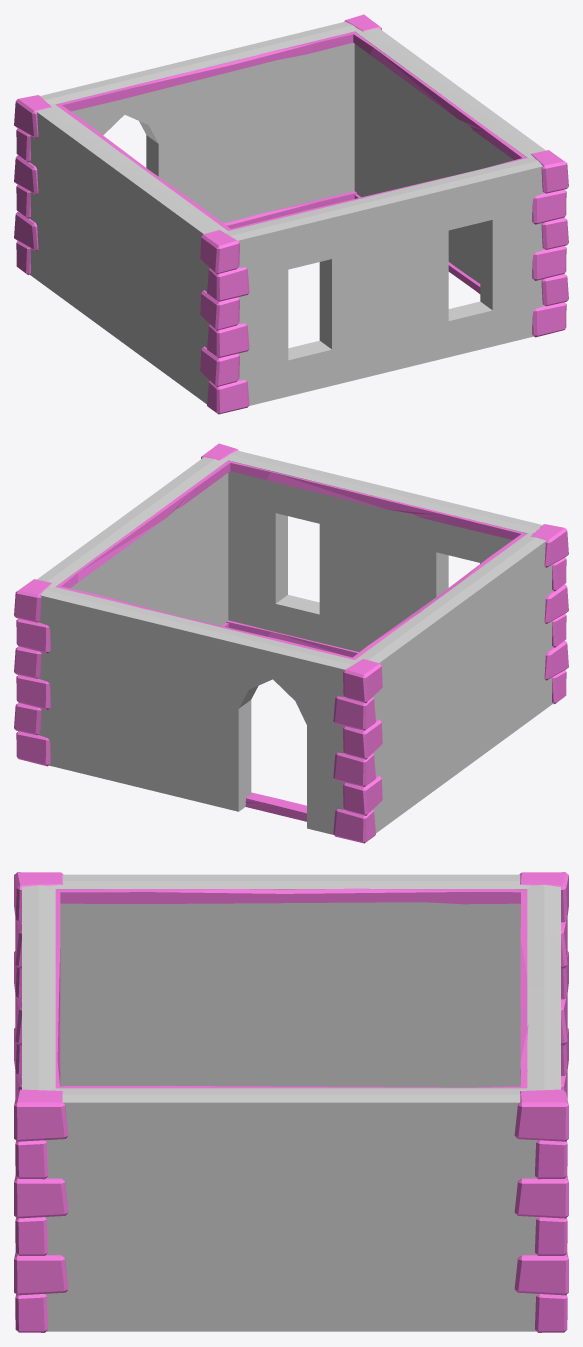
Rendered from SM_Tower_Square_6m_Entrance_Corner_Fantasy_Base.fbx.
3 renders of one model, top to bottom at view 1: azimuth 30°, elevation 25°; view 2: azimuth 150°, elevation 25°; view 3: azimuth 270°, elevation 25°, orthographic. The views are drawn at different scales.
Parts seen in each view (by area): view 1: SM_Tower_Square_6m_Entrance_Corner_Fantasy_Base; view 2: SM_Tower_Square_6m_Entrance_Corner_Fantasy_Base; view 3: SM_Tower_Square_6m_Entrance_Corner_Fantasy_Base.
Part boxes in pixels (x1=…): SM_Tower_Square_6m_Entrance_Corner_Fantasy_Base: x1=14, y1=14, x2=568, y2=414; SM_Tower_Square_6m_Entrance_Corner_Fantasy_Base: x1=14, y1=443, x2=568, y2=843; SM_Tower_Square_6m_Entrance_Corner_Fantasy_Base: x1=14, y1=872, x2=568, y2=1332.
Size of the model in its own units: 6.61 by 3.05 by 6.59.
